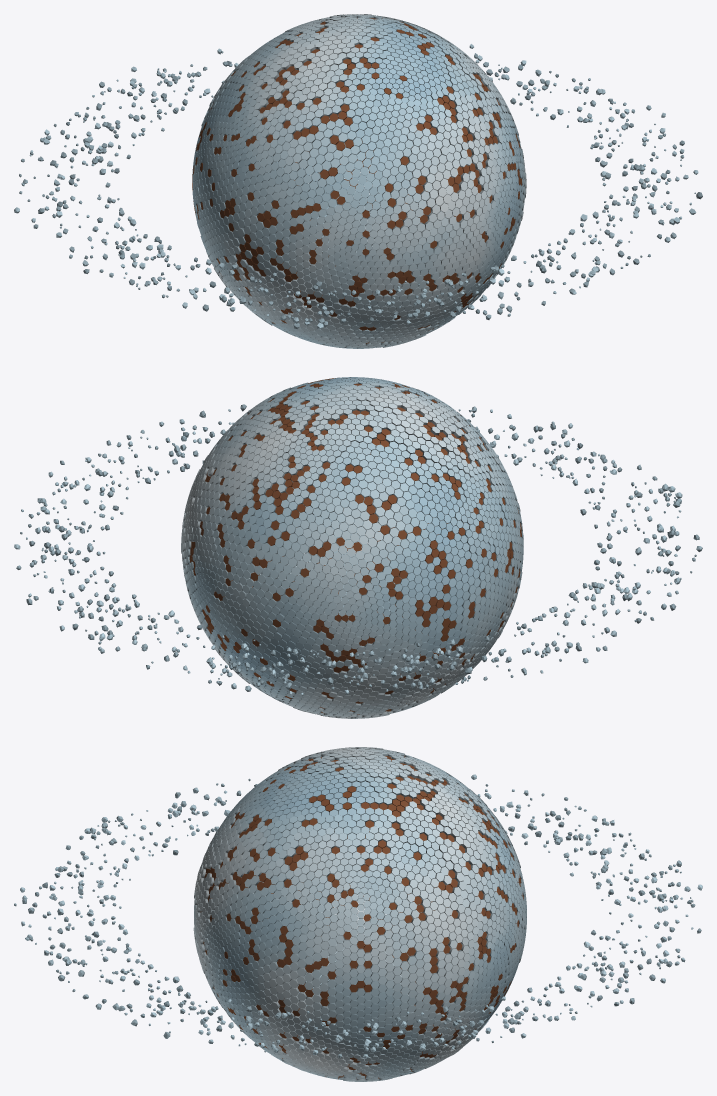
File: ice_1.glb
3 renders of one model, top to bottom at view 1: azimuth 30°, elevation 25°; view 2: azimuth 150°, elevation 25°; view 3: azimuth 270°, elevation 25°, orthographic. The views are drawn at different scales.
Parts seen in each view (by area): view 1: ice_1, ice_1_rings; view 2: ice_1, ice_1_rings; view 3: ice_1, ice_1_rings.
Boxes of the visible parts, box(x1,y1,x2,y2) form: ice_1: box(192, 14, 526, 348); ice_1_rings: box(14, 44, 702, 329); ice_1: box(181, 377, 523, 718); ice_1_rings: box(14, 404, 702, 695); ice_1: box(193, 747, 526, 1081); ice_1_rings: box(14, 774, 702, 1058).
Bounding box in the file's own units: 4.12 × 2.03 × 4.17.
